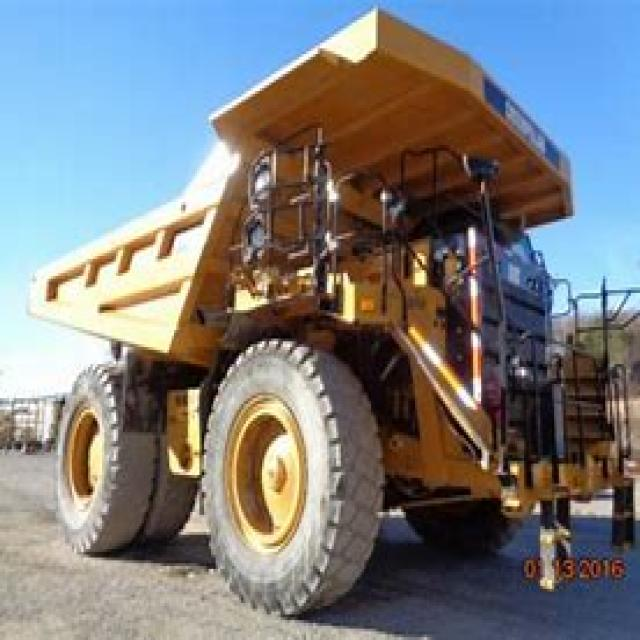dump_truck: (14, 0, 631, 617)
